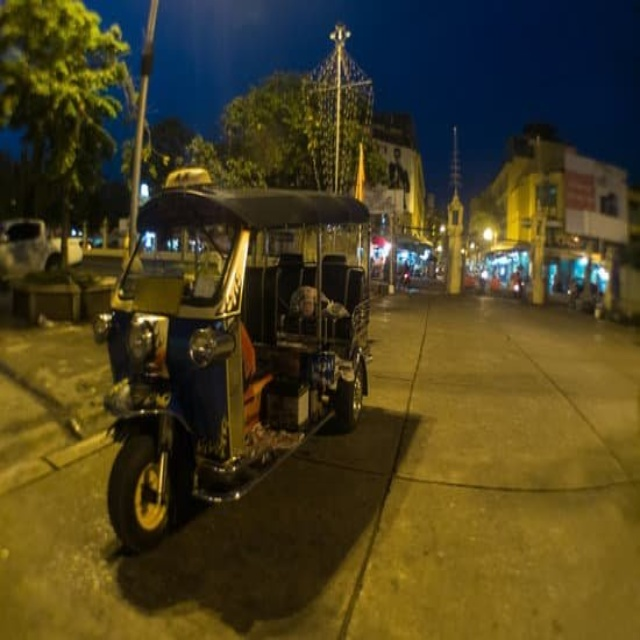Motorcycle: (92, 166, 370, 553)
